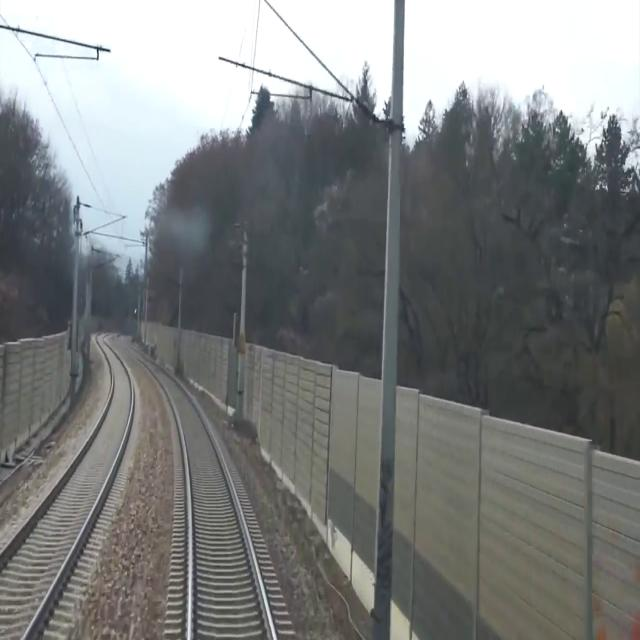rail-track: (0, 334, 130, 639), (145, 360, 270, 639), (120, 334, 130, 347)
